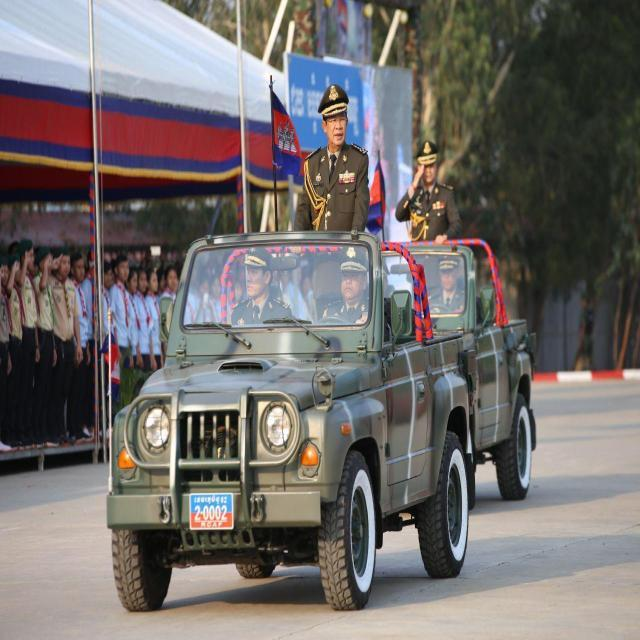RCAF: (194, 495, 220, 504)
